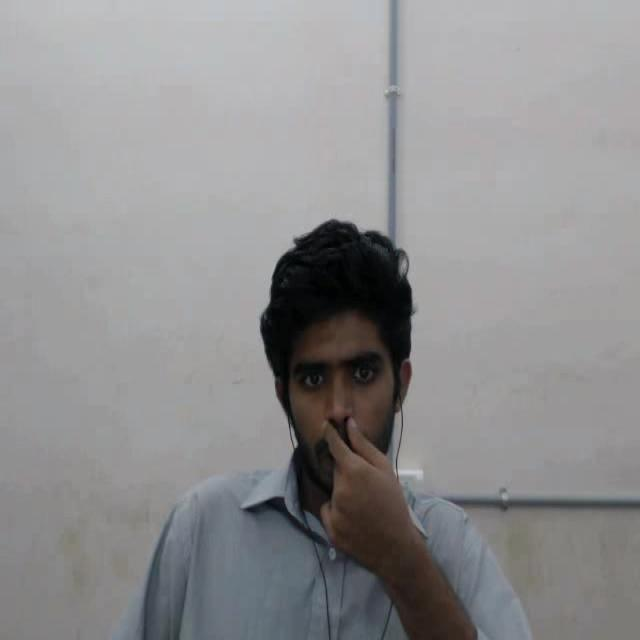Bored: (232, 196, 453, 551)
